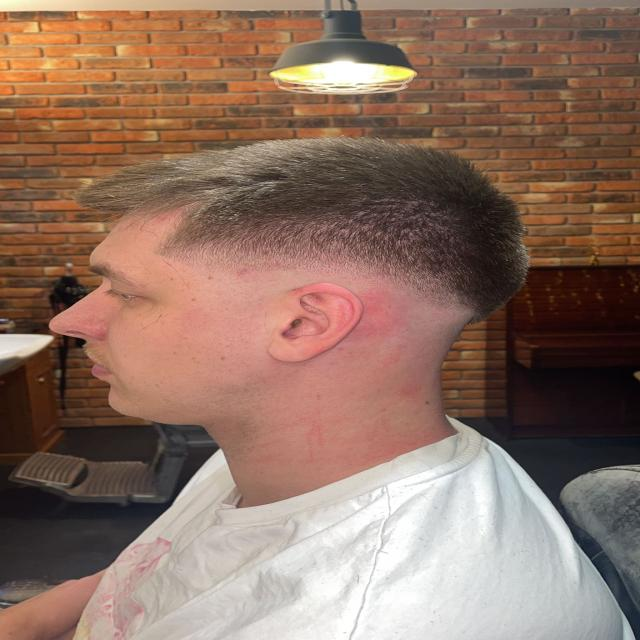JeremiasDiaz: (44, 137, 534, 424)
